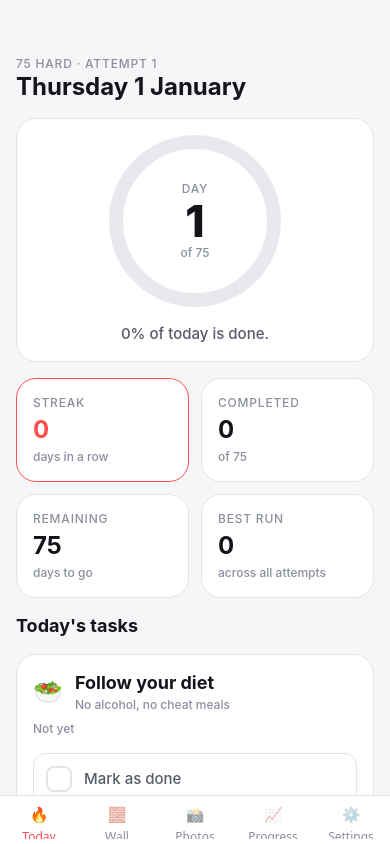
Test: Photos tab › shows an empty state before any photo is captured
The image size is (390, 844).
Expected: the text "Today" is shown, [22,829,56,839]
Click the text "Photos" at (195, 834), box [175,829,215,839]
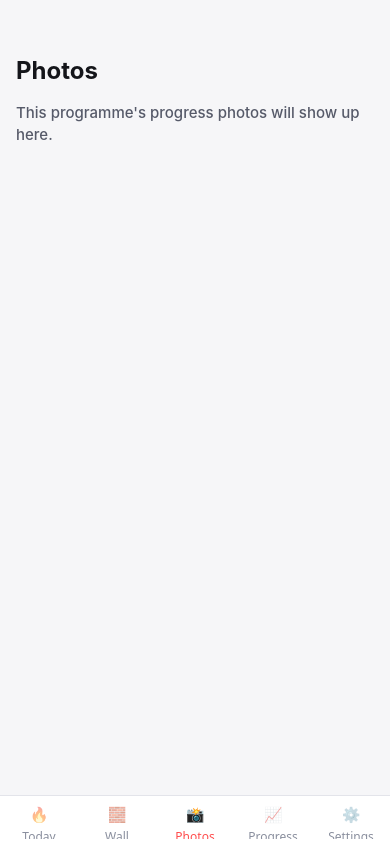
Now the text "This programme's progress photos will show up here." is shown, box [16,102,374,146]
